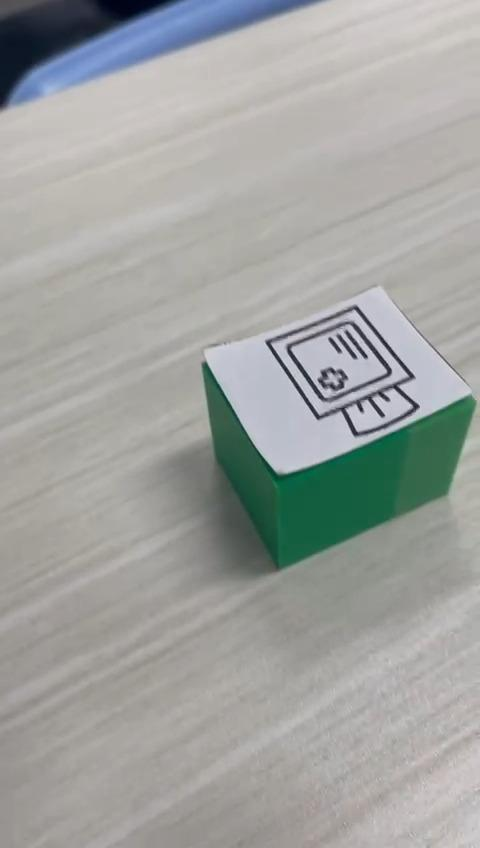Gauze: (199, 283, 476, 570)
